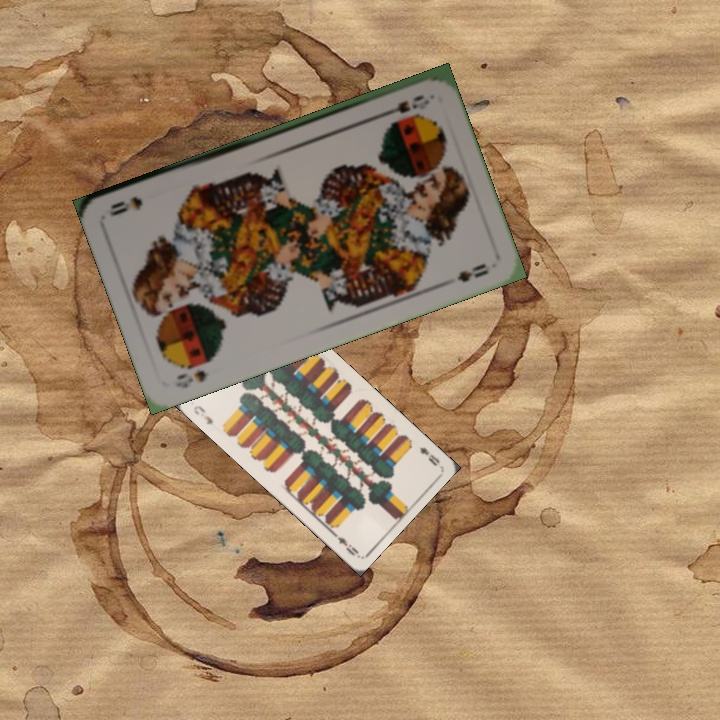E9: (189, 401, 216, 427), (416, 443, 442, 469)
SO: (376, 90, 433, 120), (172, 366, 209, 391)
